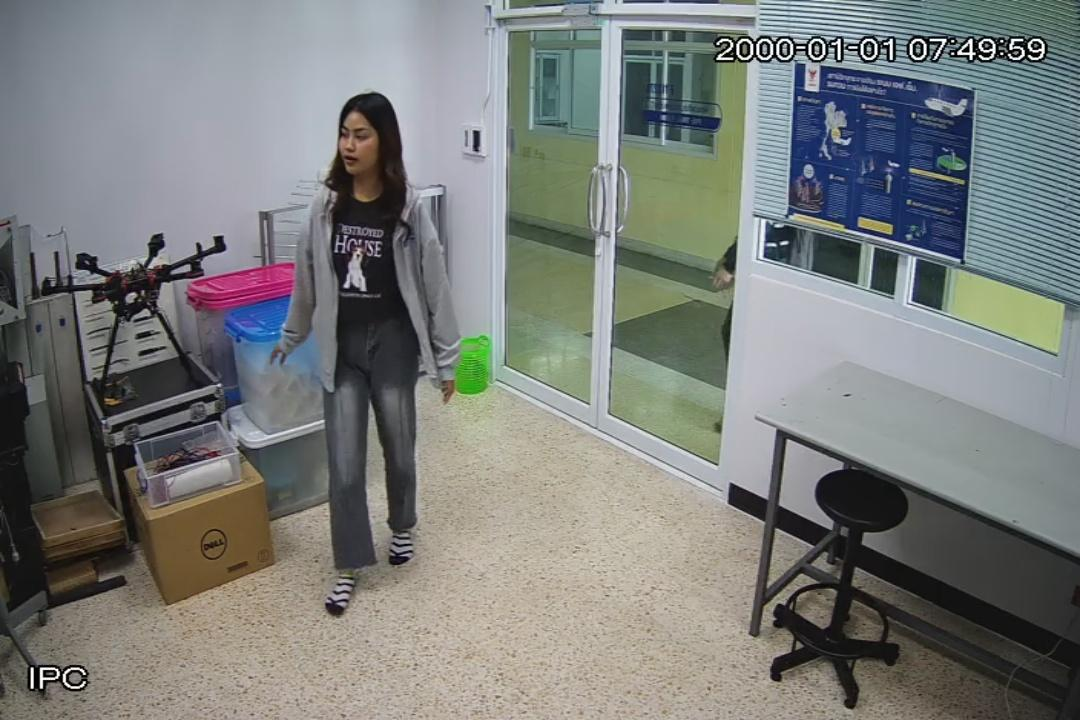normal: (269, 95, 460, 617)
